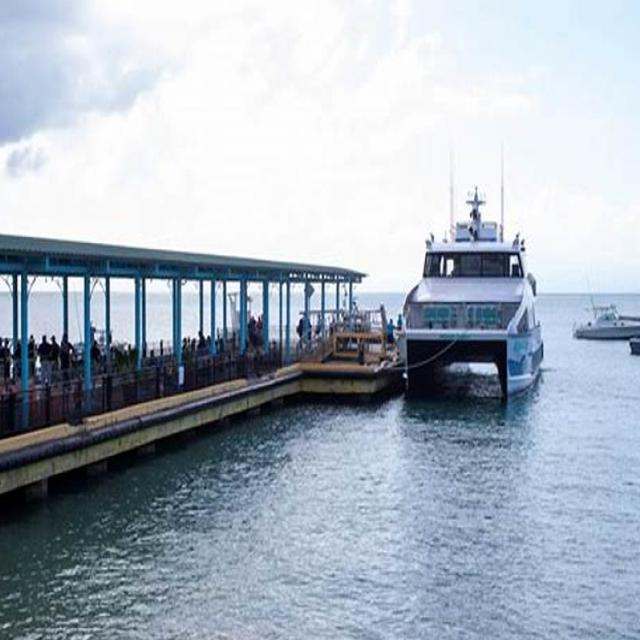houseboat: (398, 188, 546, 398), (560, 291, 640, 345)
